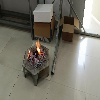fire: (36, 37, 41, 54), (28, 50, 30, 58)
